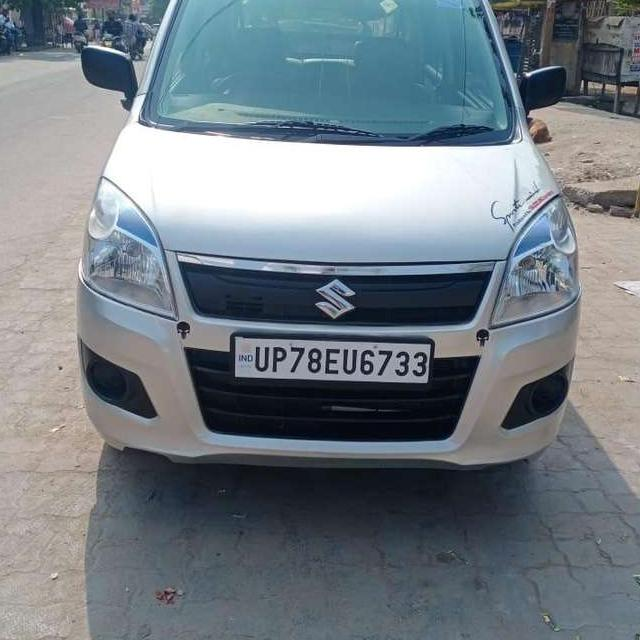Indian_Number_Plate: (234, 332, 434, 382)
